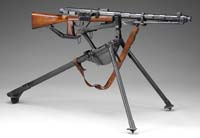rifle: (18, 5, 188, 127)
